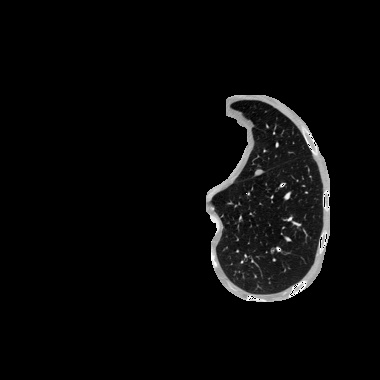PN: (254, 168, 262, 176)
